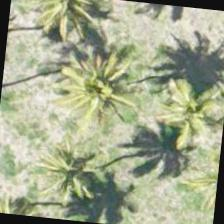Kelapa_Sawit: (52, 43, 150, 142), (28, 131, 128, 223), (158, 45, 223, 143), (17, 0, 113, 56), (0, 166, 74, 220)
